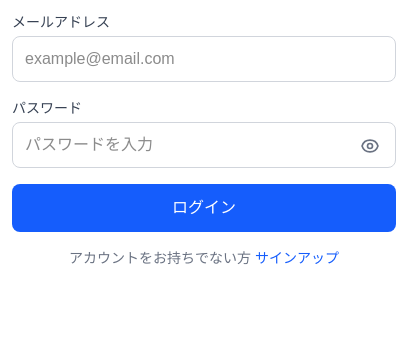
Test case: LoginForm › should show generic error on exception
Type "test@example.com" into the field labelled "メールアドレス" at (204, 59), box [12,36,396,82]
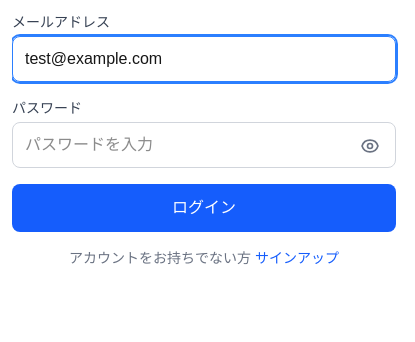
Type "password123" into the password field labelled "パスワード" at (204, 145), box [12,122,396,168]
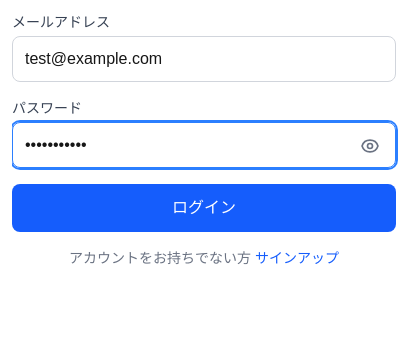
Click the button "ログイン" at (204, 208), box [12,184,396,232]
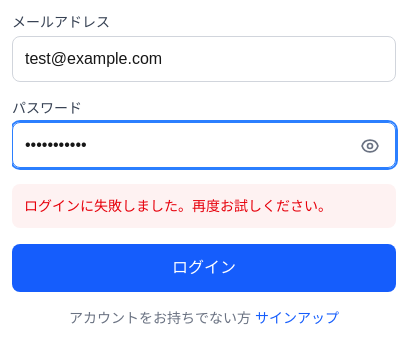
Check: the text "ログインに失敗しました。再度お試しください。" is shown, box [12,184,396,228]
